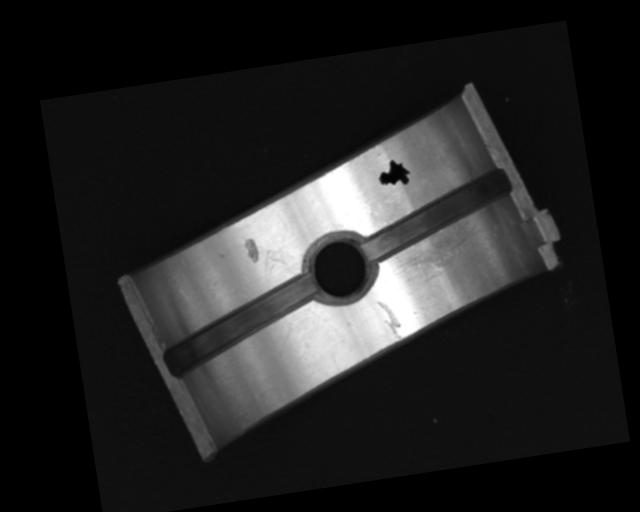blot: (375, 156, 411, 189)
bruise: (242, 236, 260, 265)
gap: (156, 273, 326, 377), (356, 167, 517, 259)
hole: (305, 229, 378, 304)
nick: (375, 297, 403, 342)
scratch: (392, 219, 487, 278)
